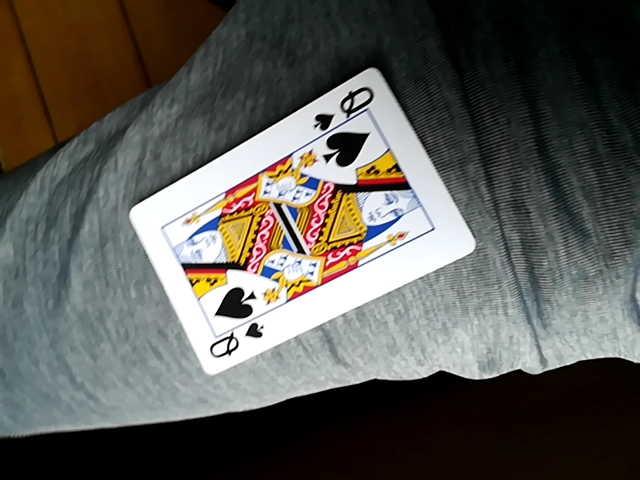ht q: (132, 69, 478, 371)
